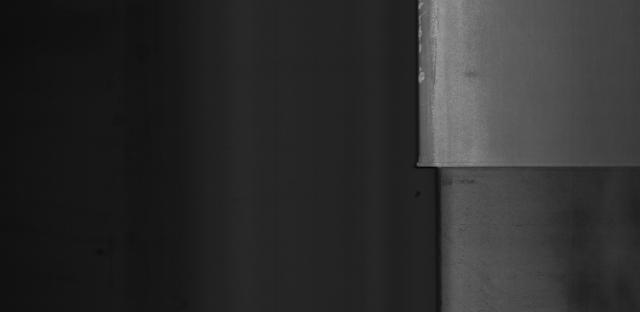welding_line: (415, 156, 640, 175)
